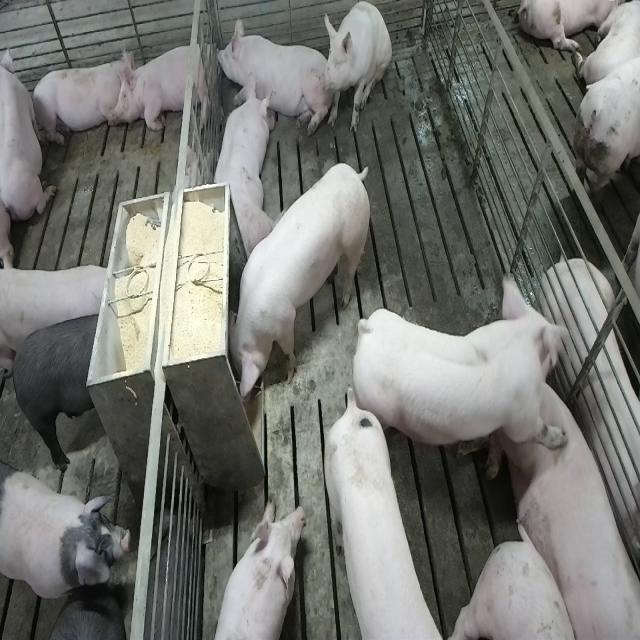Feeding: (220, 161, 368, 410)
Lateral_lying: (544, 258, 640, 582)
Sitting: (320, 2, 392, 136)
Standing: (349, 285, 572, 488), (318, 388, 440, 640), (3, 466, 133, 608), (13, 306, 107, 470), (5, 266, 119, 350), (40, 600, 129, 640)
Sternal_lying: (207, 498, 307, 640), (216, 12, 324, 139), (210, 78, 272, 256), (2, 38, 56, 226), (29, 51, 131, 149), (120, 37, 216, 135)
